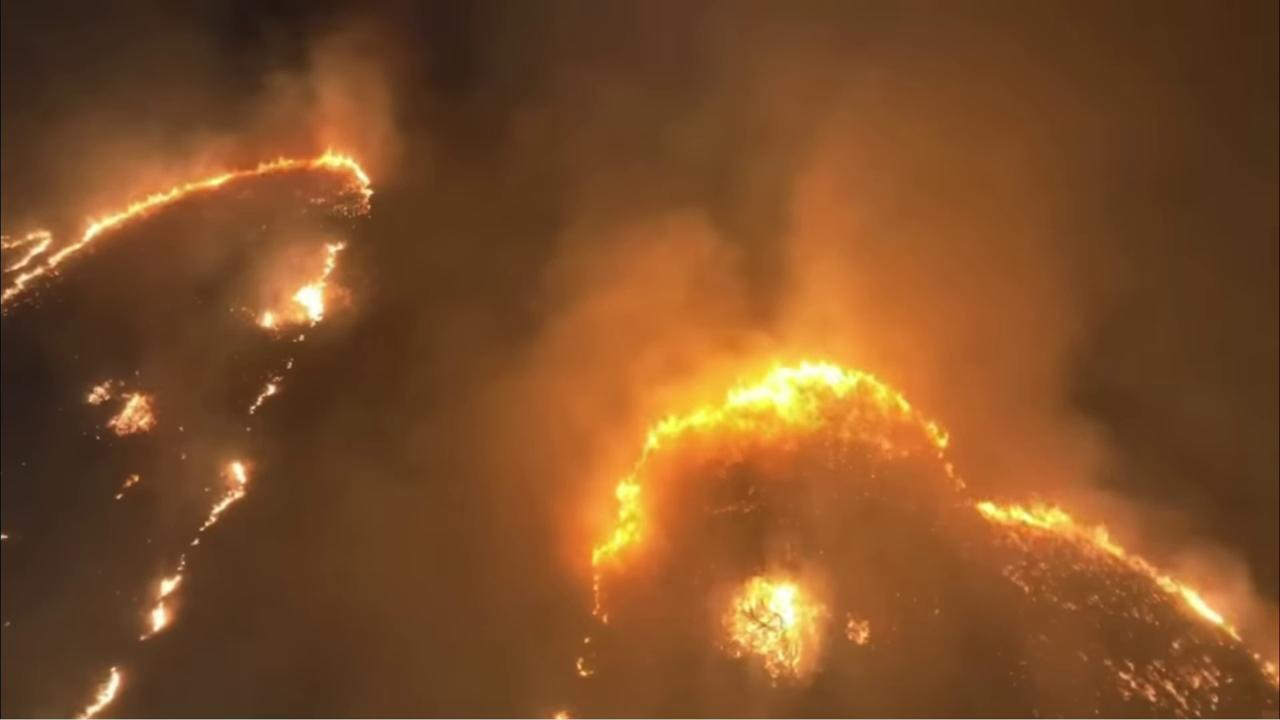fire: (551, 355, 1280, 720), (0, 143, 376, 335), (709, 550, 836, 689), (260, 239, 348, 330), (136, 551, 188, 644), (84, 375, 160, 438), (200, 458, 248, 533), (74, 665, 122, 720), (249, 374, 284, 415), (841, 609, 875, 648), (120, 473, 140, 489), (0, 531, 12, 541), (115, 491, 124, 502), (189, 537, 201, 545)
smoke: (0, 0, 1280, 720)
